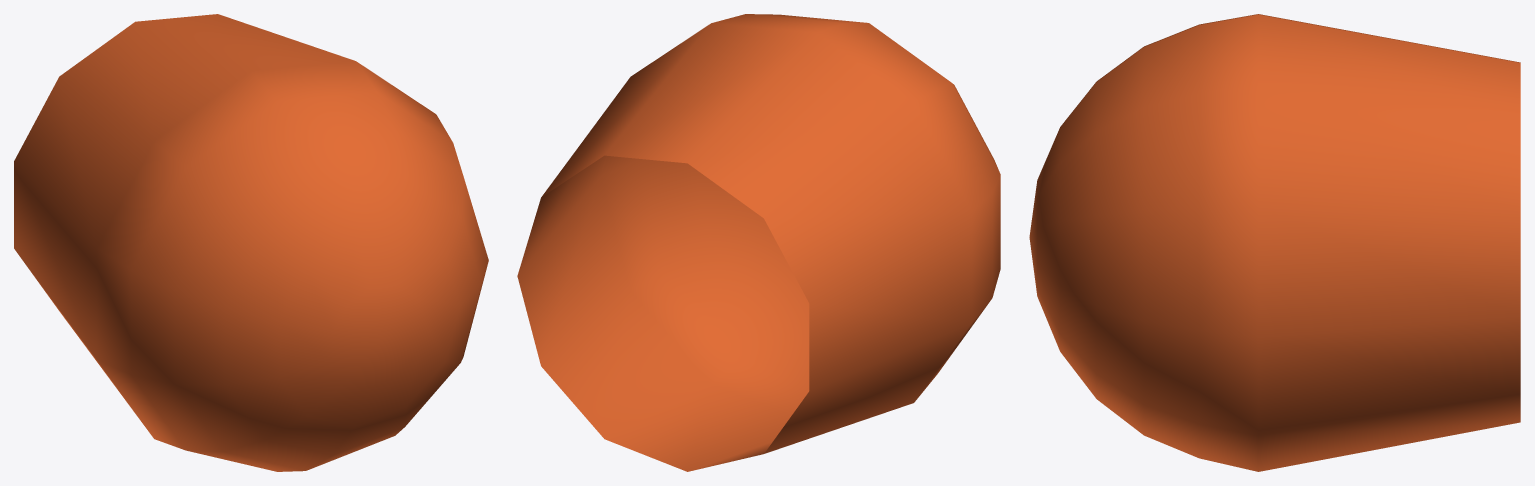
File: foxtail3.obj
3 renders of one model, left to right at view 1: azimuth 30°, elevation 25°; view 2: azimuth 150°, elevation 25°; view 3: azimuth 270°, elevation 25°, orthographic. The views are drawn at different scales.
Visible parts, largest first — view 1: tail3; view 2: tail3; view 3: tail3.
Part boxes in pixels (<box>): tail3: <box>14,14,488,471</box>; tail3: <box>517,14,1000,471</box>; tail3: <box>1029,14,1520,471</box>.
Bounding box in the file's own units: 0.1426 × 0.1441 × 0.153.
Materials: 1 (1 with a texture image).
